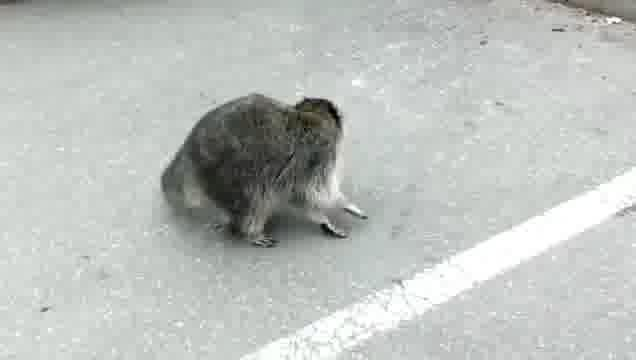raccoon: (156, 87, 372, 247)
